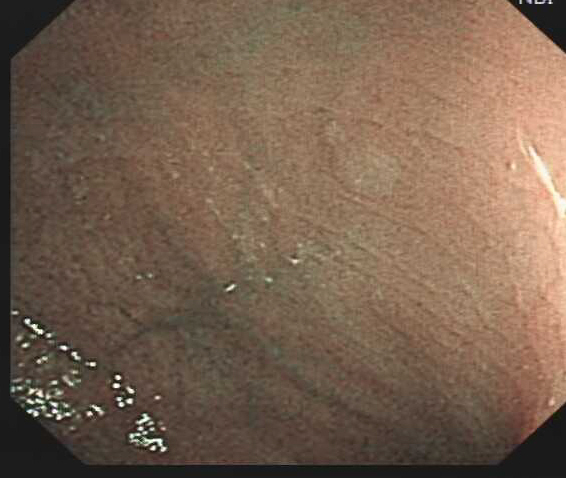others: (319, 120, 403, 205)
